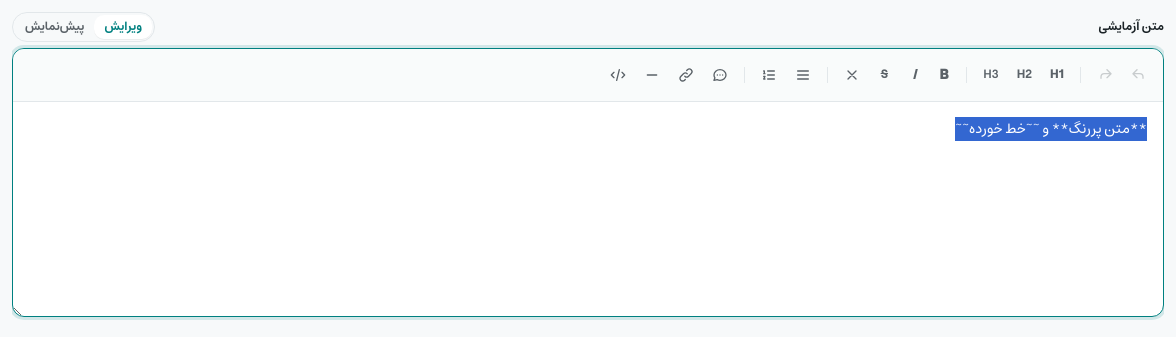
Scenario: RichTextEditor Component Suite › applies Clear formatting on selected text
The width and height of the screenshot is (1176, 337).
Click the button named "حذف قالب‌بندی (Clear formatting)" at (852, 75), box x1=836 y1=59 x2=868 y2=91
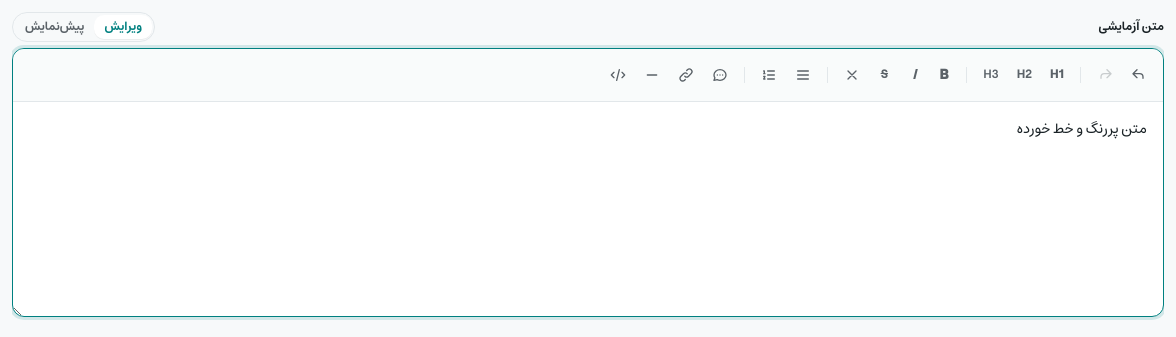
Now the text box holds "متن پررنگ و خط خورده"
